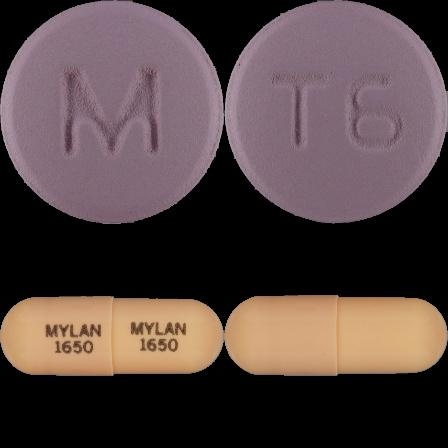51079-575: (0, 0, 224, 224)
